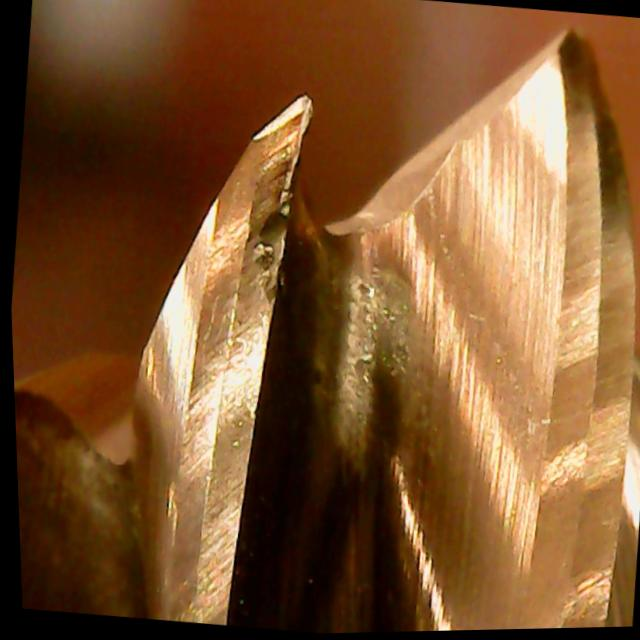Tool-wear-class-1: (139, 74, 350, 413)
